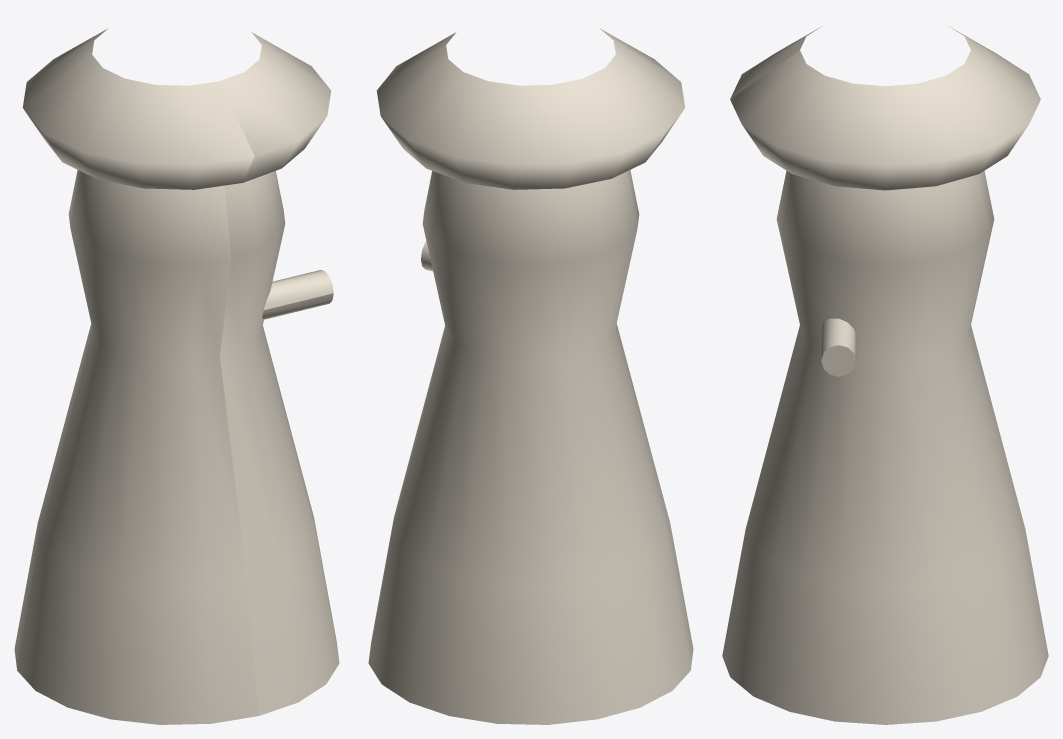
The model's file is registrar-hero.glb.
The picture shows the model from 3 angles, left to right: view 1: azimuth 30°, elevation 25°; view 2: azimuth 150°, elevation 25°; view 3: azimuth 270°, elevation 25°; orthographic projection.
Visible parts, largest first — view 1: RegistrarHero; view 2: RegistrarHero; view 3: RegistrarHero.
Boxes of the visible parts, x1,y1,x2,y2 form: RegistrarHero: [14, 28, 339, 724]; RegistrarHero: [368, 28, 693, 724]; RegistrarHero: [722, 26, 1048, 724].
Bounding box in the file's own units: 0.84 × 1.72 × 0.84.
